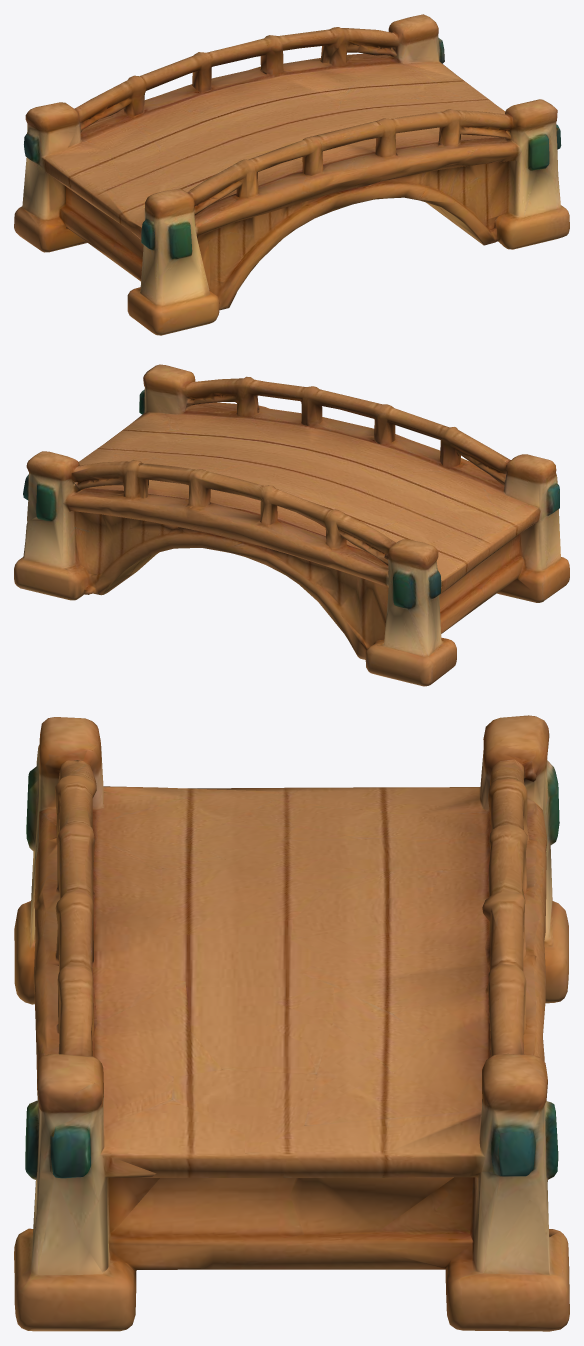
File: facility-bridge.glb
3 views of the same model, one above another, from view 1: azimuth 30°, elevation 25°; view 2: azimuth 150°, elevation 25°; view 3: azimuth 270°, elevation 25° (orthographic). The views are drawn at different scales.
Visible parts, largest first — view 1: Mesh_0; view 2: Mesh_0; view 3: Mesh_0.
Boxes of the visible parts, box(x1,y1,x2,y2) form: Mesh_0: box(14, 14, 569, 335); Mesh_0: box(14, 364, 569, 686); Mesh_0: box(14, 715, 569, 1331).
Size of the model in its own units: 2 by 0.6888 by 1.21.
Materials: 1 (1 with a texture image).
